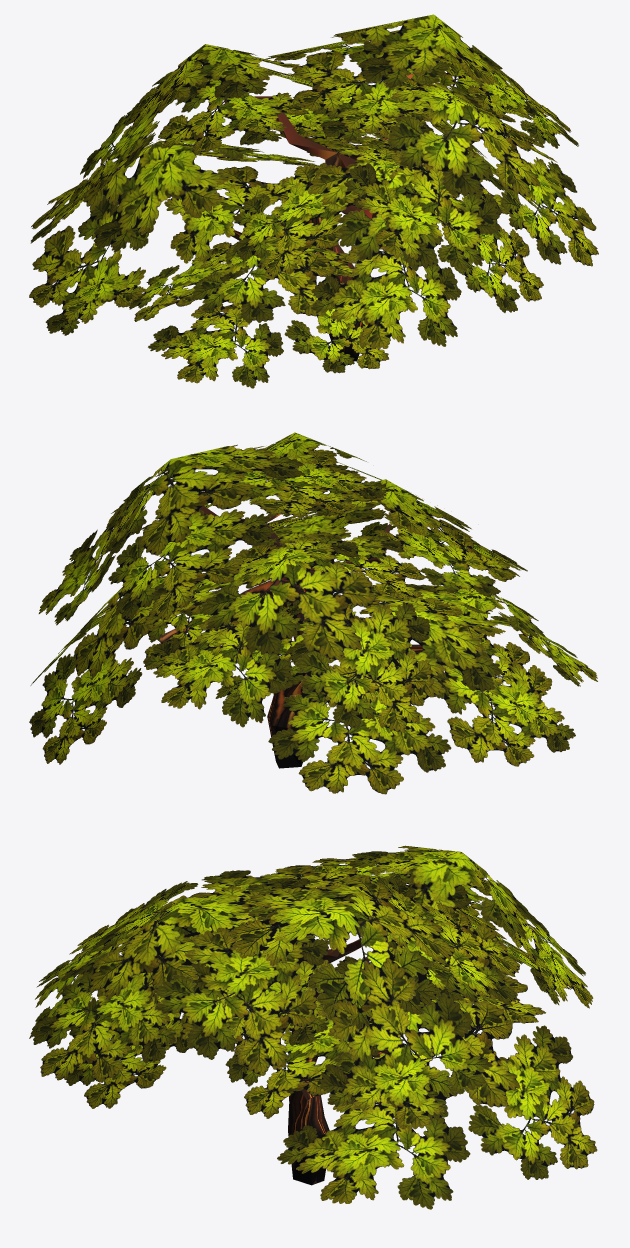
The model's file is tree_4_combined.obj.
3 renders of one model, top to bottom at view 1: azimuth 30°, elevation 25°; view 2: azimuth 150°, elevation 25°; view 3: azimuth 270°, elevation 25°, orthographic. The views are drawn at different scales.
Visible parts, largest first — view 1: Cylinder01; view 2: Cylinder01; view 3: Cylinder01.
Boxes of the visible parts, x1=… form: Cylinder01: x1=29, y1=14, x2=598, y2=388; Cylinder01: x1=29, y1=432, x2=597, y2=794; Cylinder01: x1=29, y1=845, x2=597, y2=1209.
Bounding box in the file's own units: 347 × 187 × 318.
